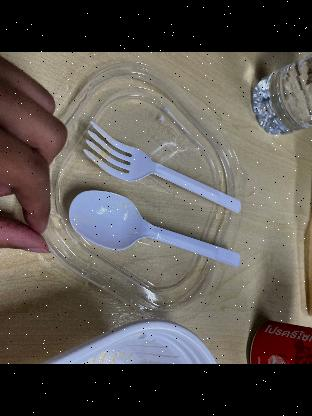Others: (57, 190, 242, 280), (80, 122, 247, 214)
